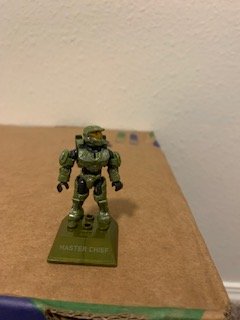chief: (55, 125, 125, 228)
spartan: (53, 123, 123, 226)
